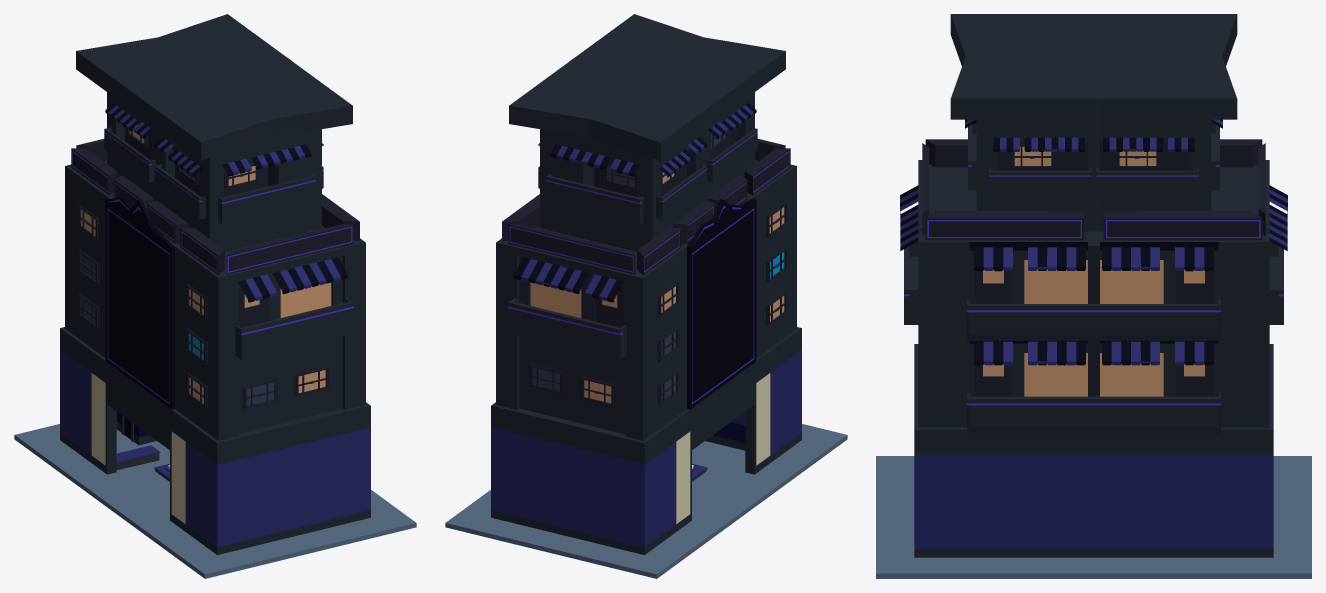
Rendered from Building_Hotel.fbx.
The picture shows the model from 3 angles, left to right: view 1: azimuth 30°, elevation 25°; view 2: azimuth 150°, elevation 25°; view 3: azimuth 270°, elevation 25°; orthographic projection. The views are drawn at different scales.
Parts seen in each view (by area): view 1: Cube.654; view 2: Cube.654; view 3: Cube.654.
Part boxes in pixels (x1=…): Cube.654: x1=14, y1=14, x2=416, y2=578; Cube.654: x1=445, y1=14, x2=847, y2=578; Cube.654: x1=876, y1=14, x2=1311, y2=578.
Bounding box in the file's own units: 1371 × 2513 × 2142.
